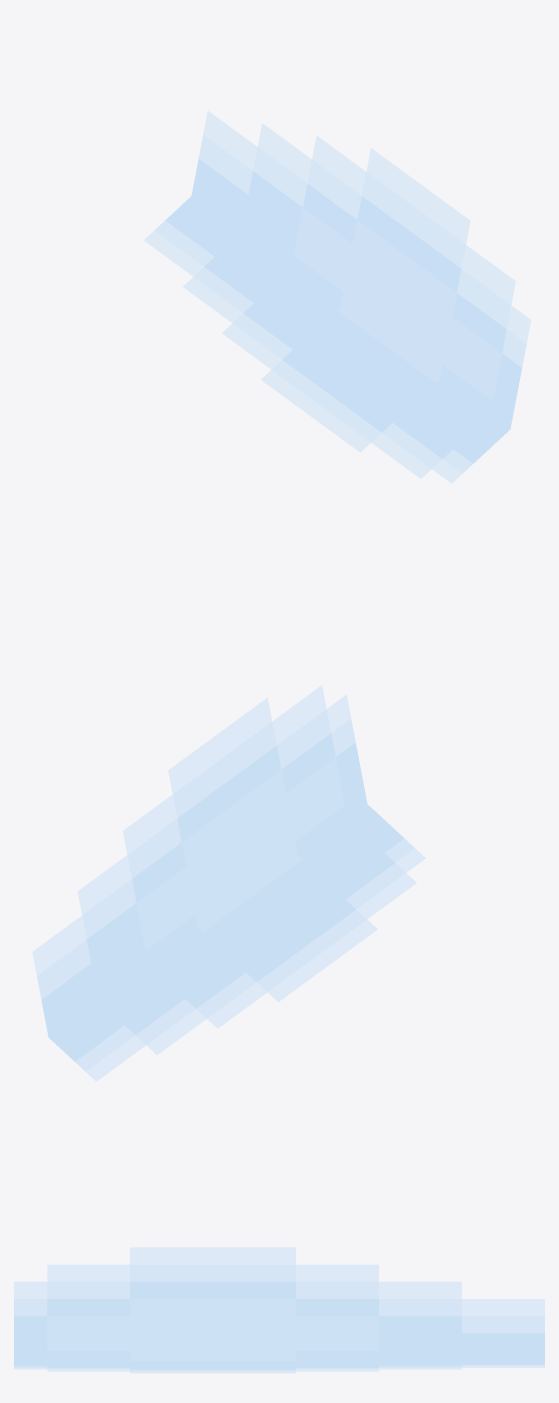
3 renders of one model, top to bottom at view 1: azimuth 30°, elevation 25°; view 2: azimuth 150°, elevation 25°; view 3: azimuth 270°, elevation 25°, orthographic. The views are drawn at different scales.
Size of the model in its own units: 0.3838 by 0.5088 by 1.
Materials: 1 (1 with a texture image).
